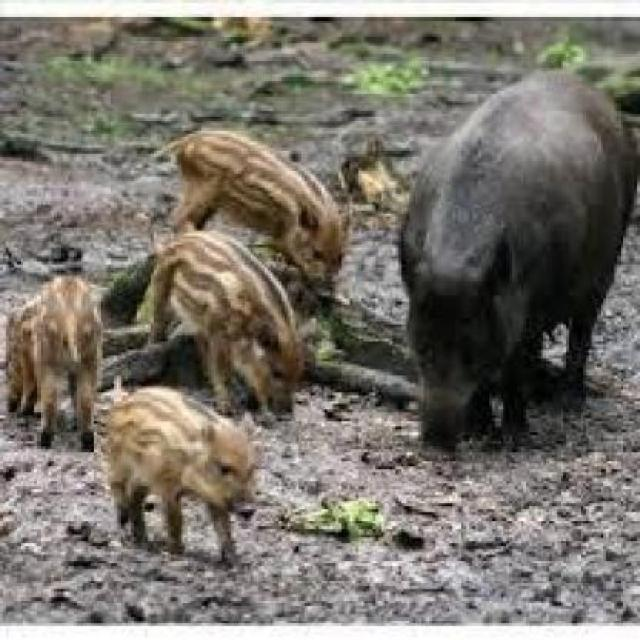wildboar: (397, 63, 640, 466), (135, 223, 310, 417), (161, 118, 357, 288), (99, 382, 267, 561), (0, 265, 114, 443)
